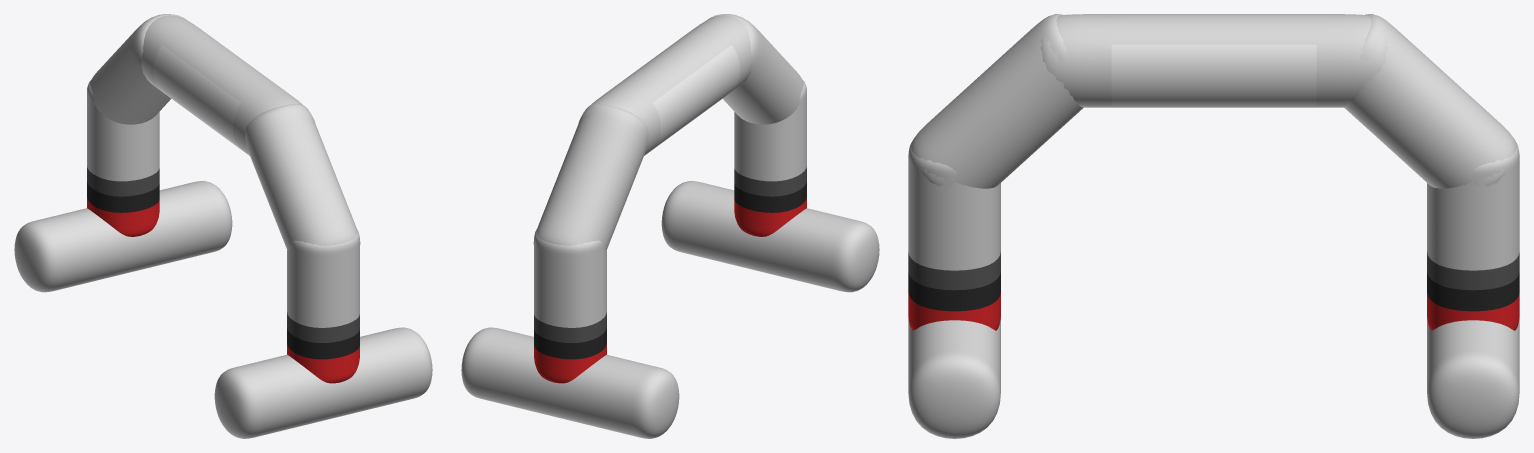
Rendered from pneumatic_gate2.fbx.
The picture shows the model from 3 angles, left to right: view 1: azimuth 30°, elevation 25°; view 2: azimuth 150°, elevation 25°; view 3: azimuth 270°, elevation 25°; orthographic projection. The views are drawn at different scales.
Visible parts, largest first — view 1: основание, столбы, унлы, верхушка; view 2: основание, столбы, унлы, верхушка; view 3: унлы, верхушка, столбы, основание.
Boxes of the visible parts, x1,y1,x2,y2 form: основание: [14, 181, 432, 438]; столбы: [87, 80, 359, 383]; унлы: [87, 14, 360, 257]; верхушка: [141, 15, 315, 155]; основание: [461, 181, 879, 438]; столбы: [534, 80, 806, 383]; унлы: [533, 14, 806, 257]; верхушка: [578, 15, 752, 155]; унлы: [911, 14, 1516, 188]; верхушка: [1040, 14, 1387, 107]; столбы: [908, 142, 1519, 330]; основание: [908, 317, 1519, 438].
Bounding box in the file's own units: 687 × 935 × 1414.
